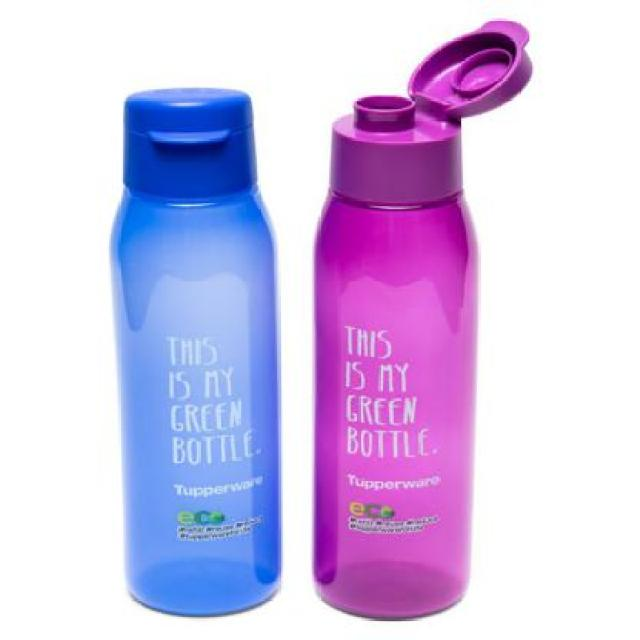Drinking: (91, 70, 297, 618), (308, 77, 488, 615)
